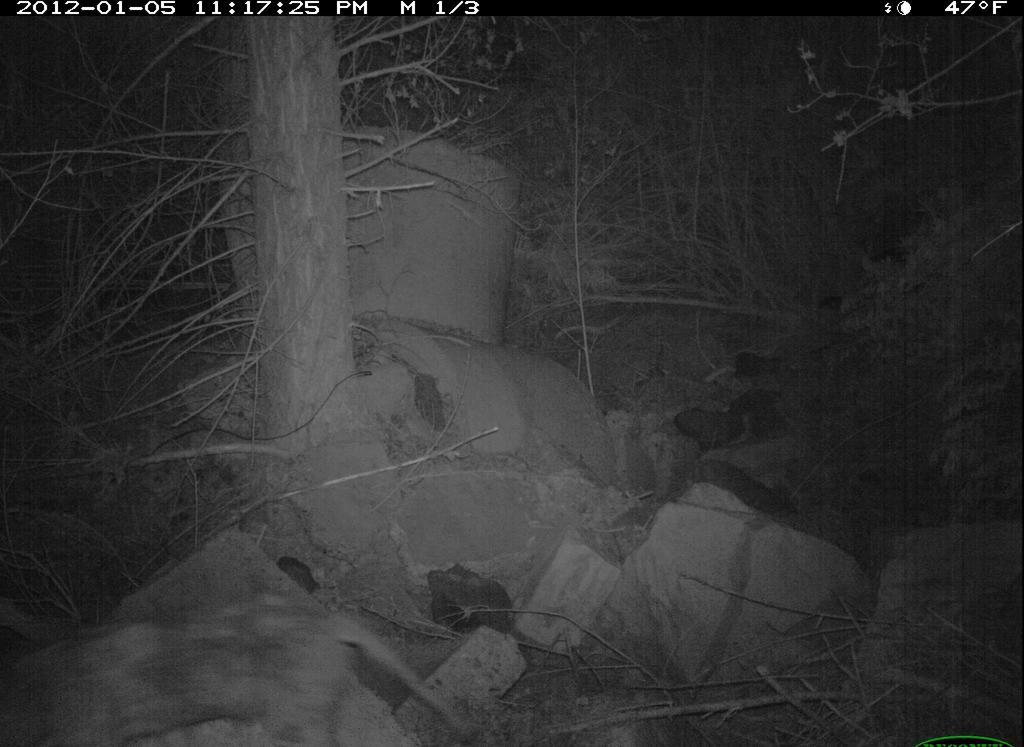coyote: (8, 601, 423, 747)
